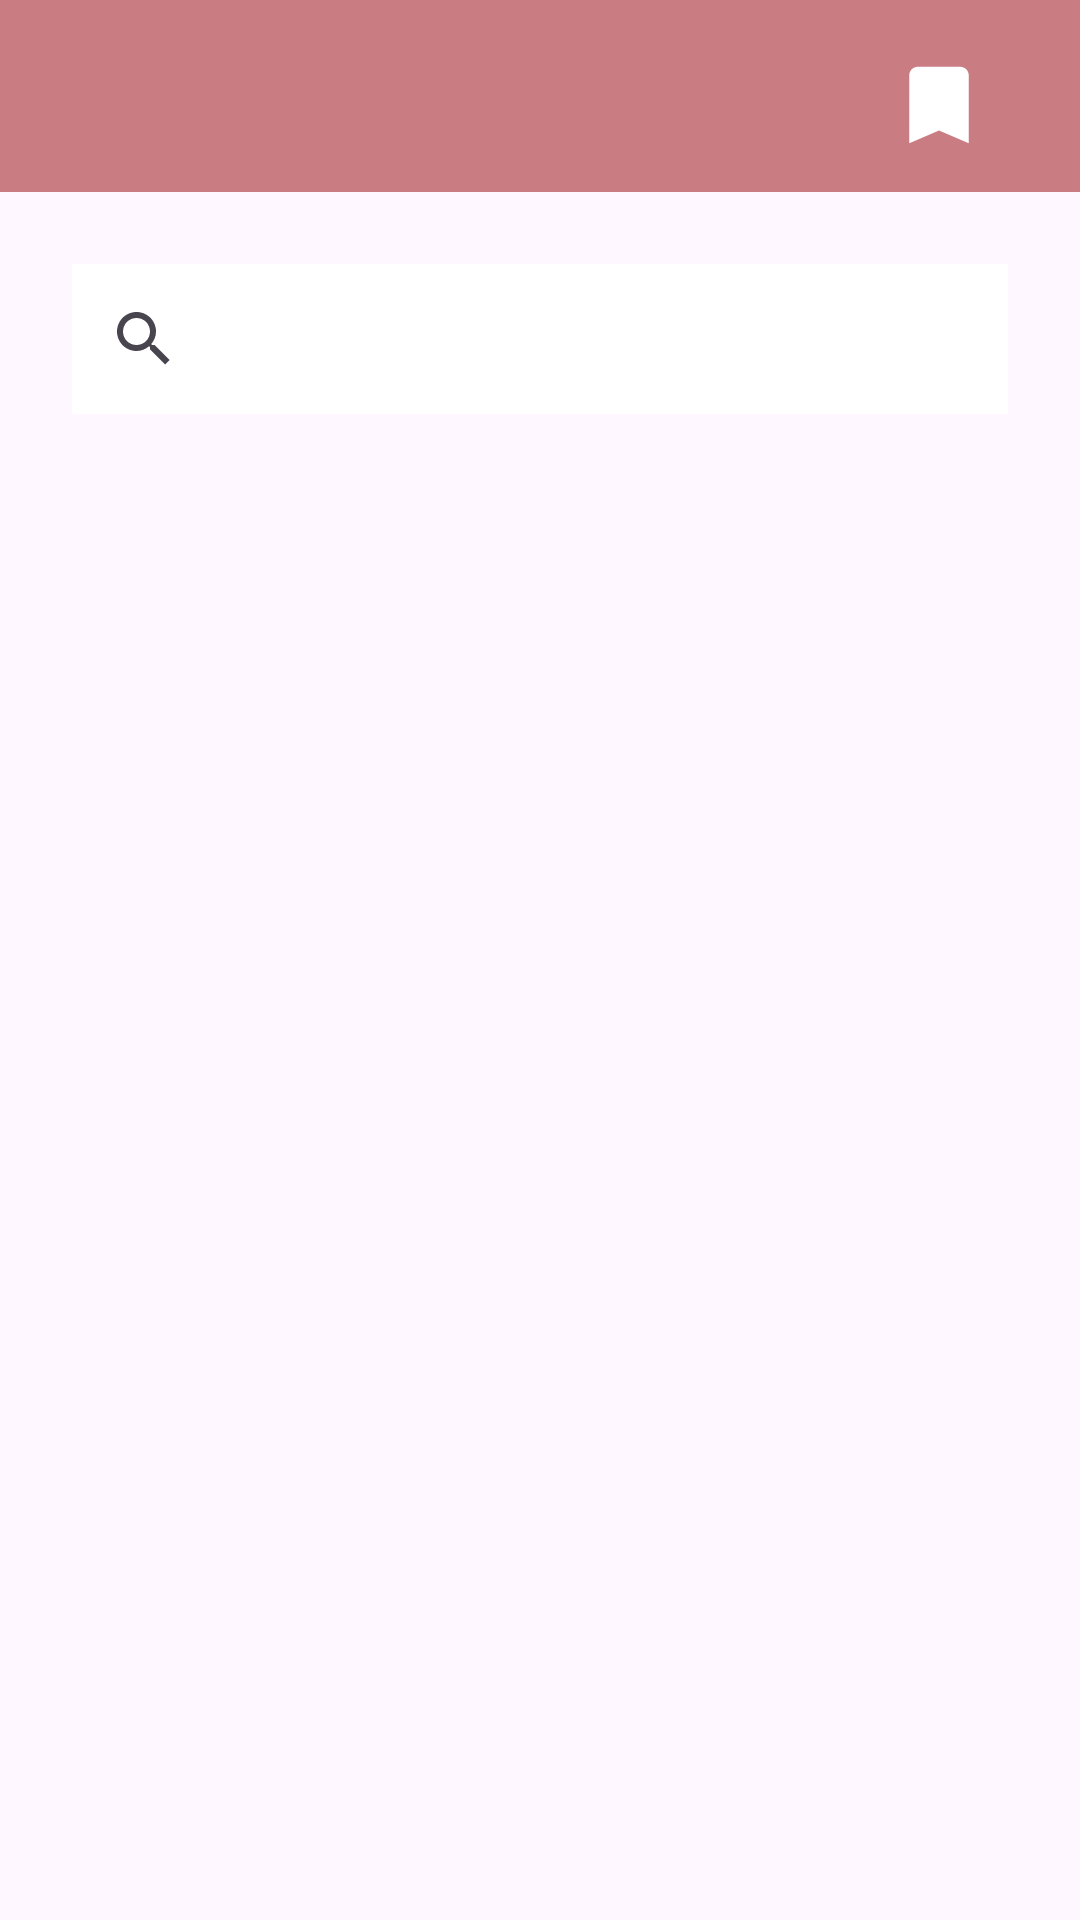

Locate icon controls on the screen. Image size 1080×1920, boxes as {"x1": x1, "y1": y1, "x2": x2, "y2": y2}.
bookmark: {"x1": 909, "y1": 66, "x2": 969, "y2": 143}
